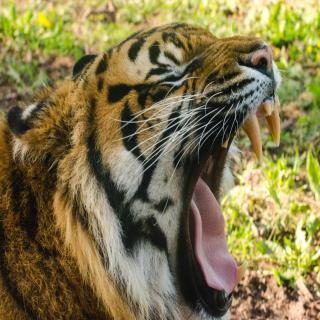Tiger: (0, 2, 291, 320)
